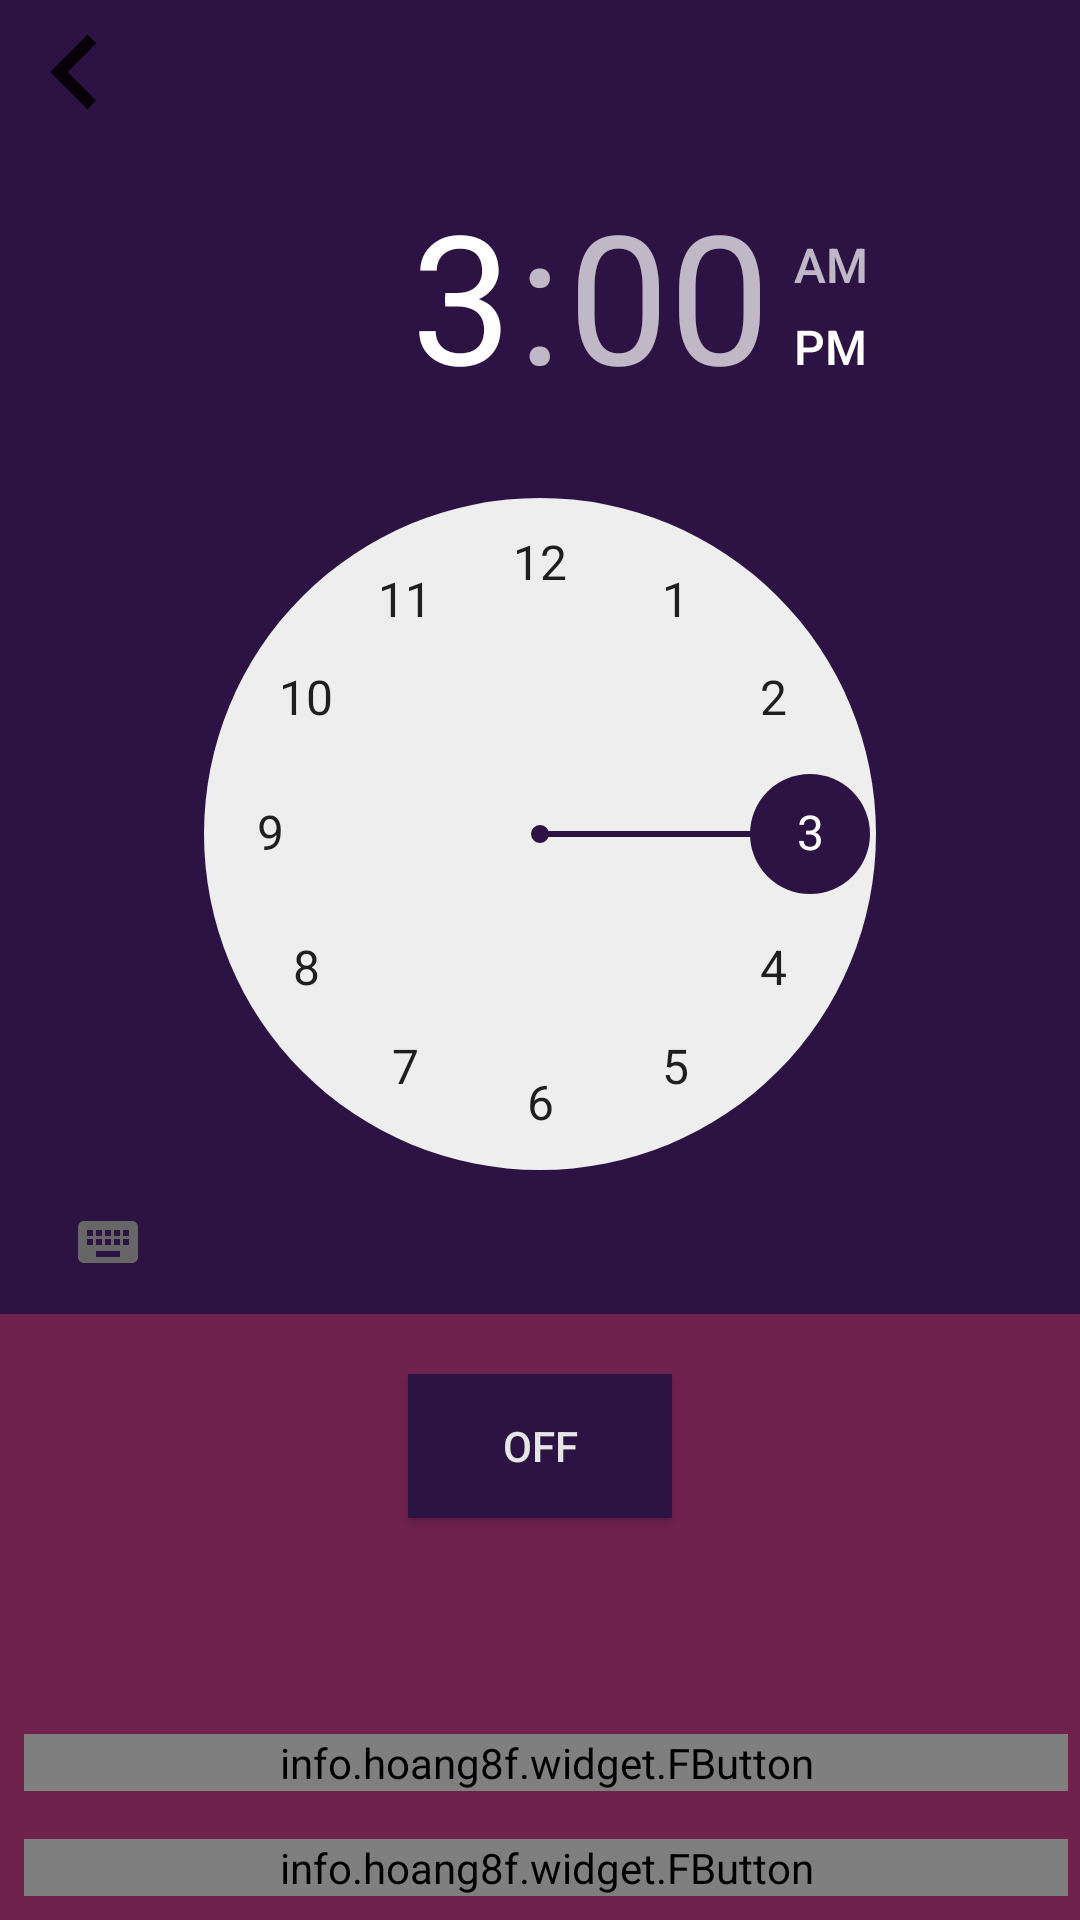

Icon bounding boxes for this 1080*1920 phone screenshot, format [left=x1, top=y1, right=x2, bottom=y2]:
keyboard arrow left: [left=50, top=35, right=96, bottom=109]
